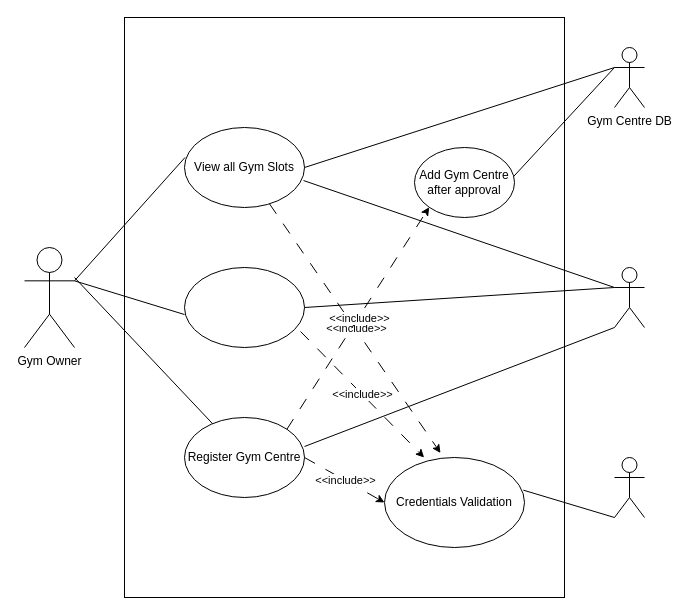
Some shapes in this 689 by 615 pixel diagram are drawn without their labels. Each missing label, with the box of its shape:
Add Slots in Gym Centre: (184, 266, 304, 348)
Slot DB: (614, 266, 644, 328)
User DB: (614, 456, 644, 518)
